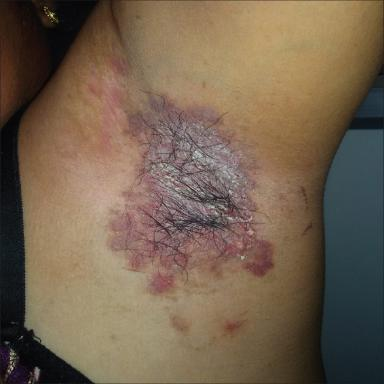Hailey-Hailey-Disease: (112, 96, 274, 292)
